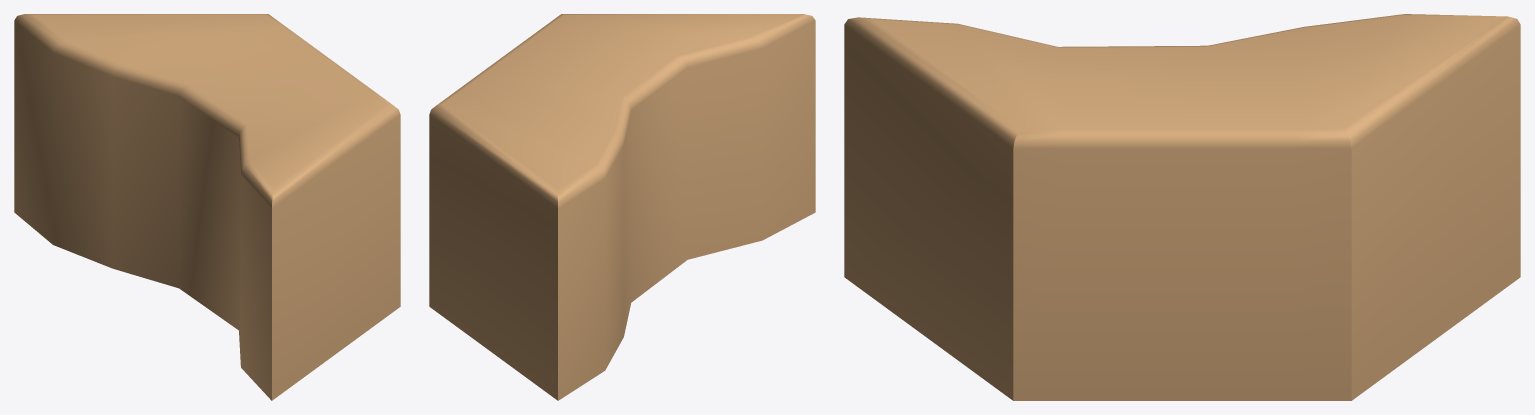
Rendered from hex_sand_waterc_empty.glb.
The picture shows the model from 3 angles, left to right: view 1: azimuth 30°, elevation 25°; view 2: azimuth 150°, elevation 25°; view 3: azimuth 270°, elevation 25°; orthographic projection. The views are drawn at different scales.
Visible parts, largest first — view 1: hex_sand_waterC_empty; view 2: hex_sand_waterC_empty; view 3: hex_sand_waterC_empty.
Part boxes in pixels (bbox=[...]): hex_sand_waterC_empty: bbox=[14, 14, 400, 400]; hex_sand_waterC_empty: bbox=[429, 14, 815, 400]; hex_sand_waterC_empty: bbox=[844, 14, 1520, 400].
Size of the model in its own units: 4.09 by 4 by 9.24.
